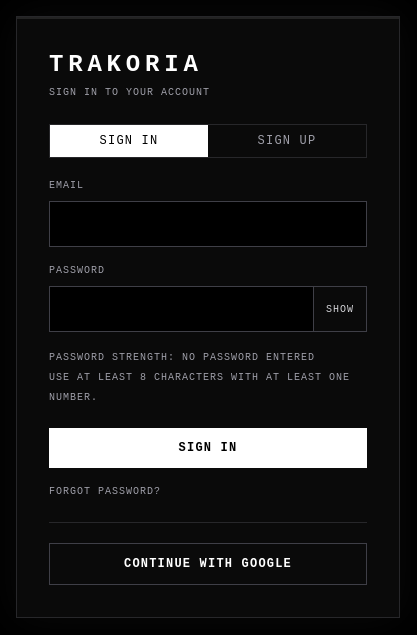
Scenario: AuthPanel › shows password recovery API errors without claiming delivery
The width and height of the screenshot is (417, 635).
Click the button "Forgot Password?" at (105, 492), box top-left (49, 484), bottom-right (161, 499)
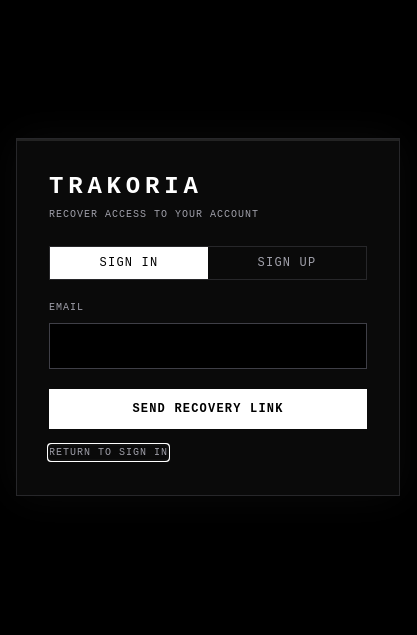
Type "recover@example.com" into the field labelled "Email" at (208, 346), box top-left (49, 323), bottom-right (367, 369)
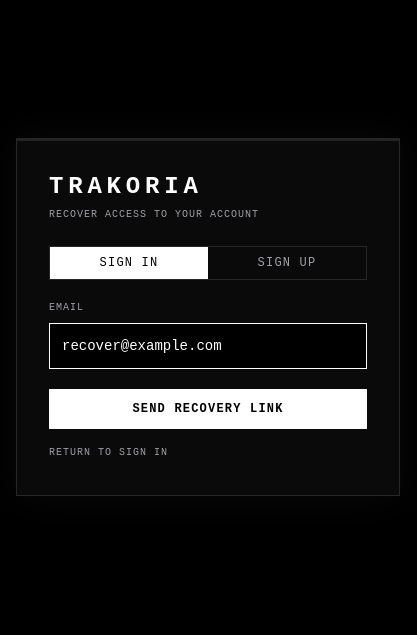
Click the button "Send Recovery Link" at (208, 409), box top-left (49, 389), bottom-right (367, 429)
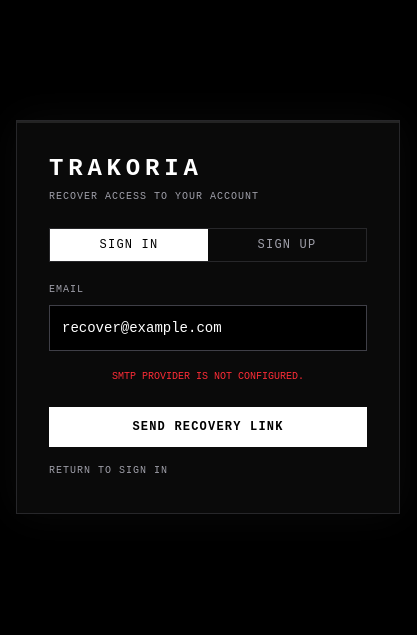
Result: the message shows "SMTP provider is not configured" at top-left (112, 371), bottom-right (304, 382)
